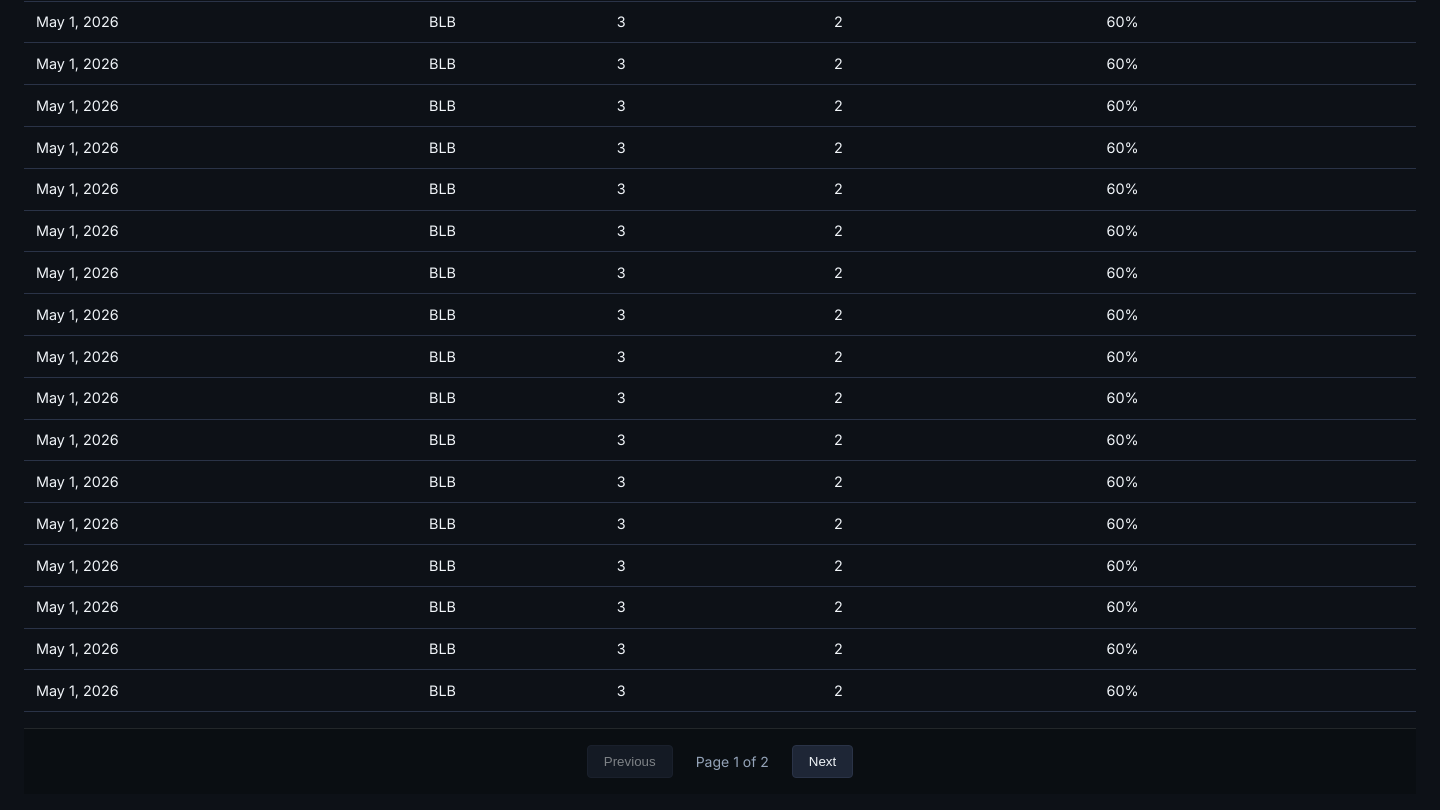
Test: BffDraftHistory › Pagination › clicking Next fetches next page
(page scrolled)
Click the button "Next".
click(822, 762)  # box [792, 745, 853, 778]
(page scrolled)
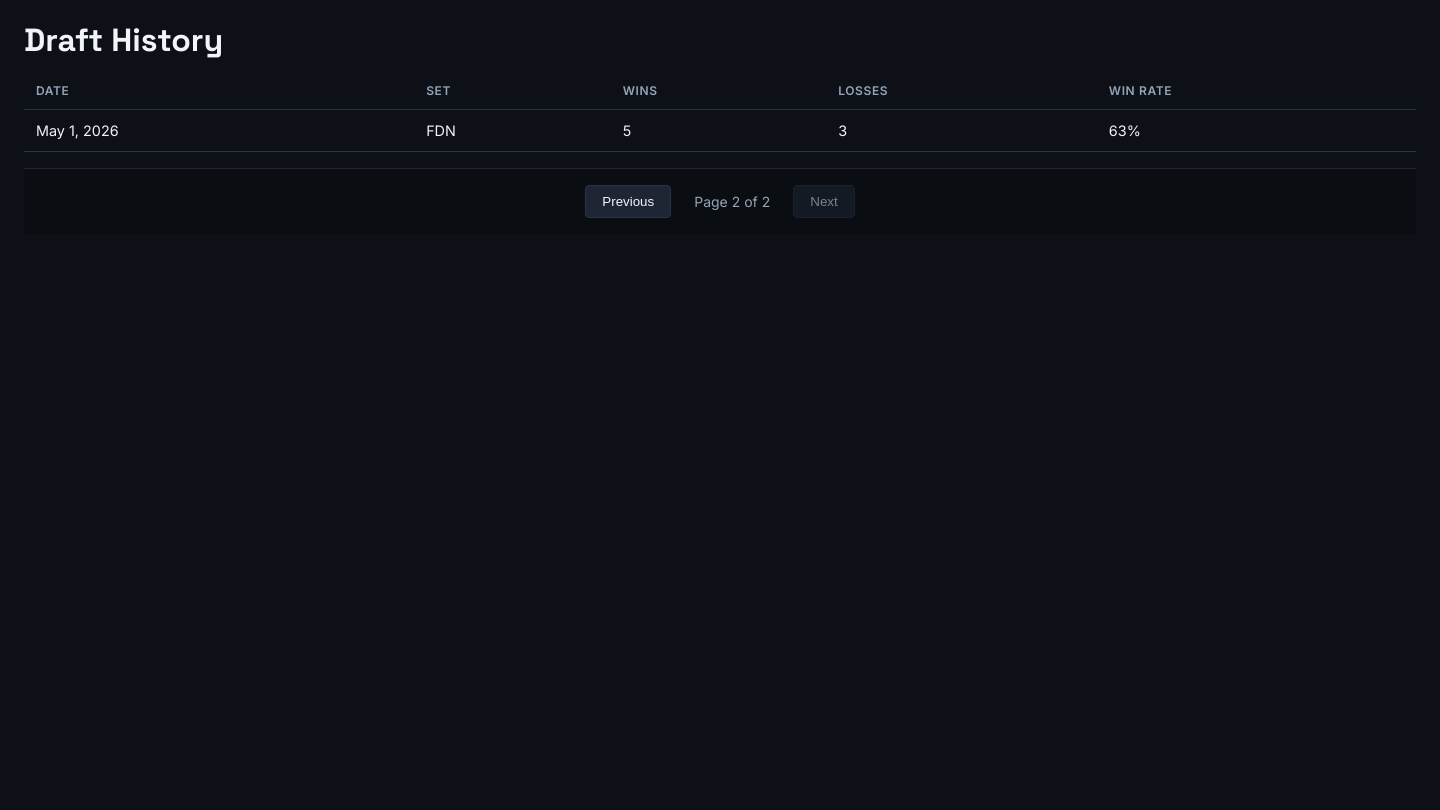
Expected: the text "FDN" is shown, [414, 110, 611, 152]
